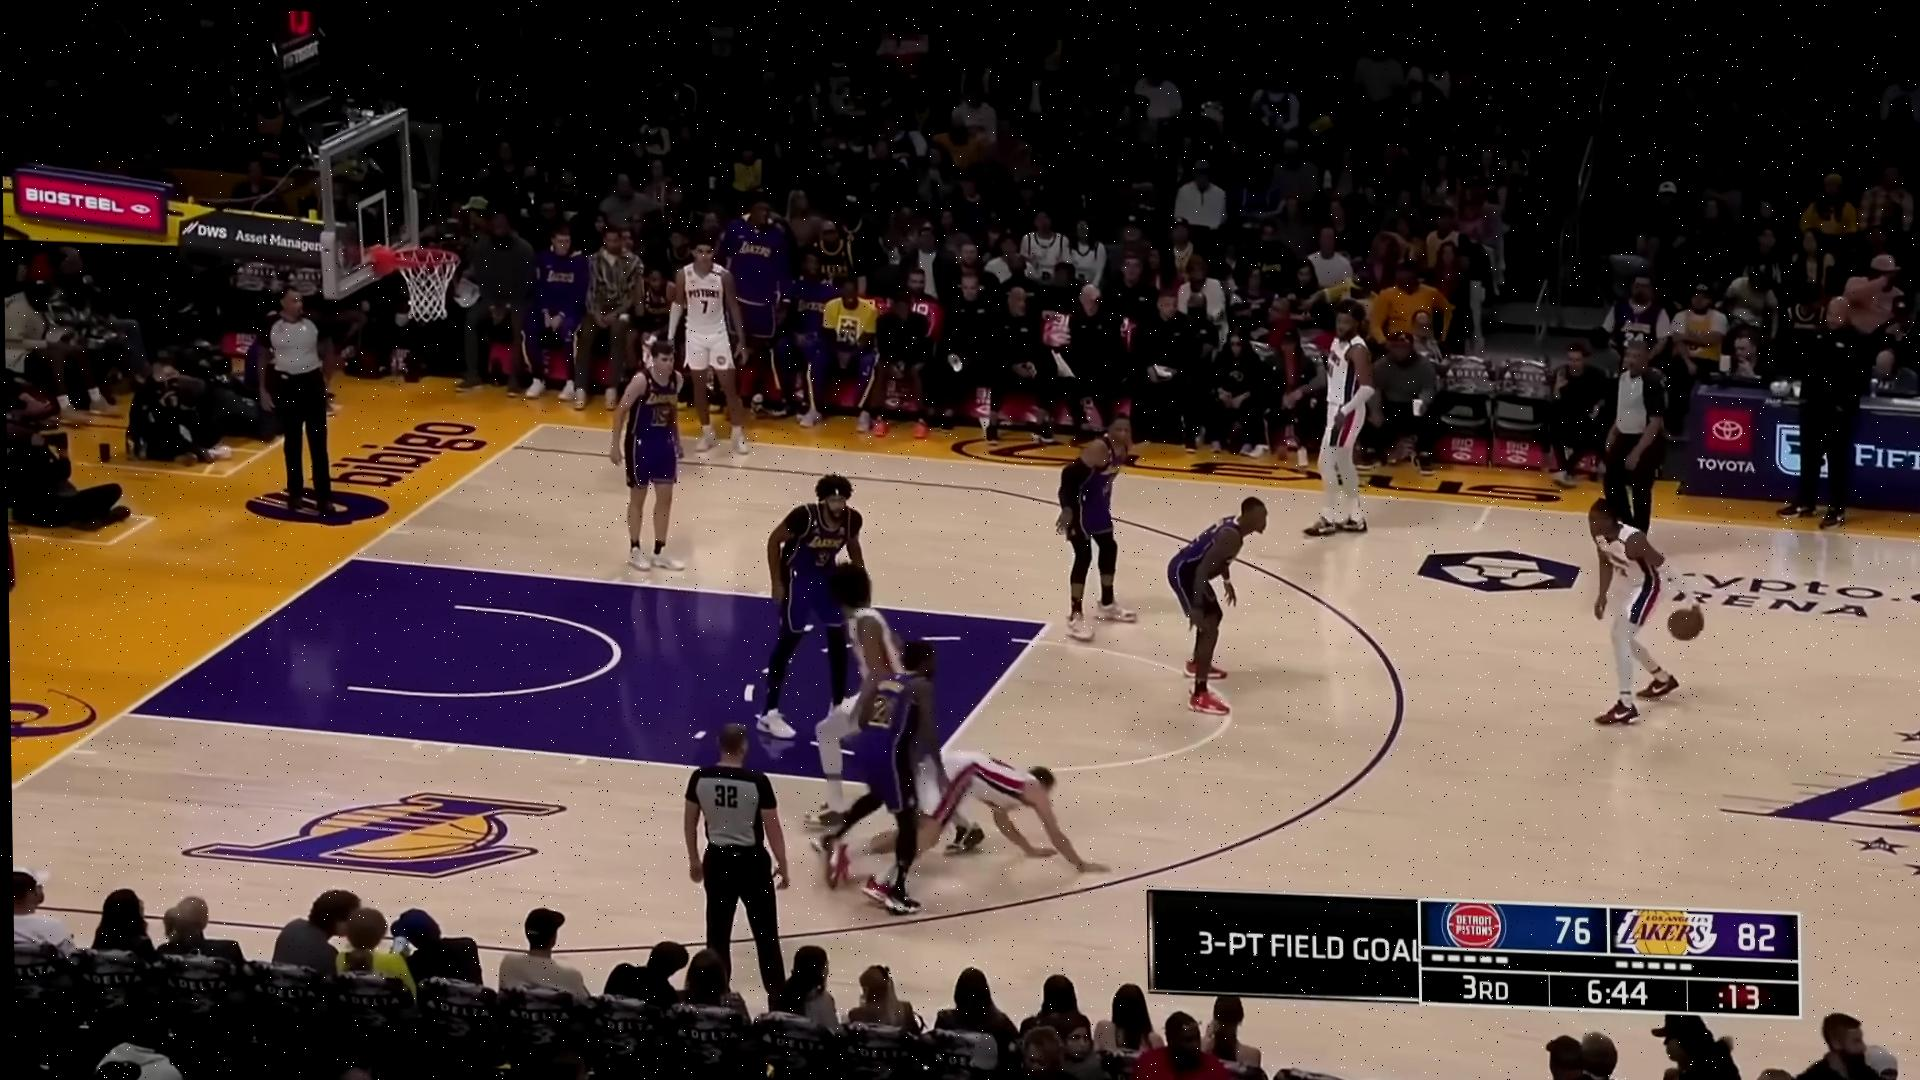foul: (814, 628, 1127, 920)
